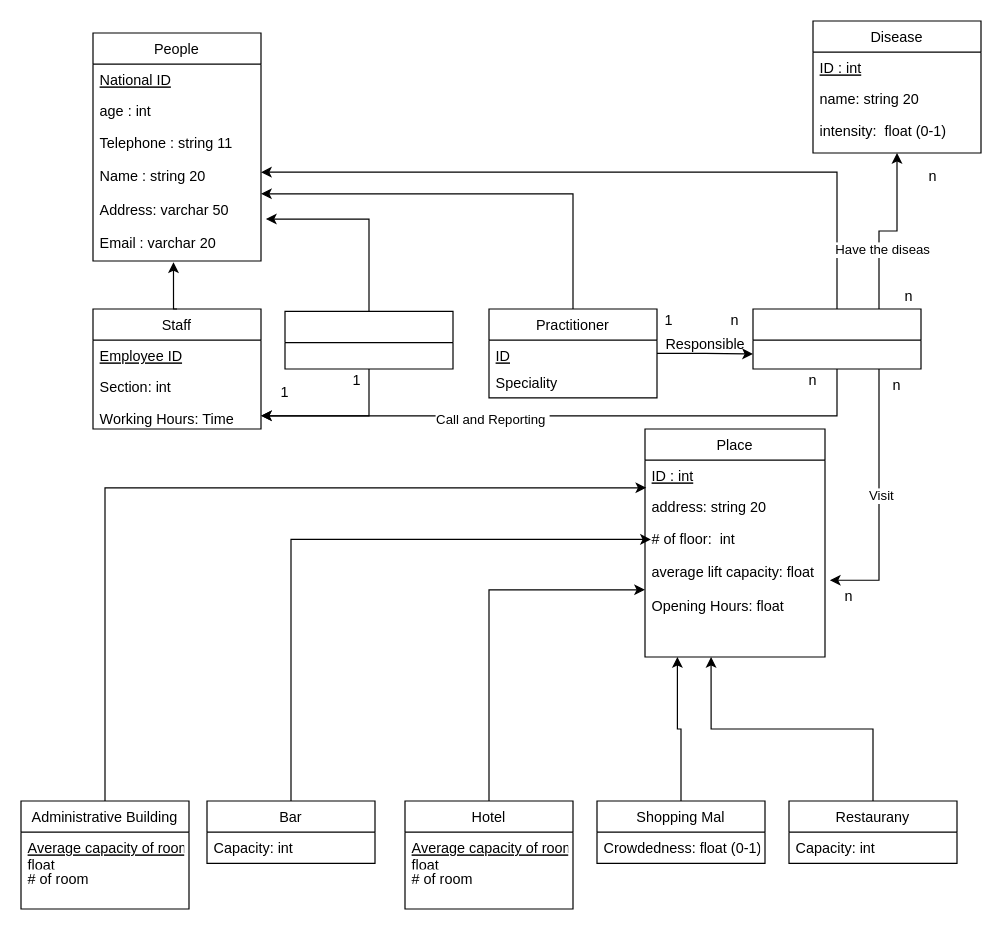
The diagram is 1002 pixels wide and 934 high, and some of its shapes have lost their labels. The shapes that lost their labels are listed below. From the top down, each one's centre as x and y in pixels, then its label:
At (x=368, y=339): "Reporter".
At (x=836, y=338): "Paitient".
